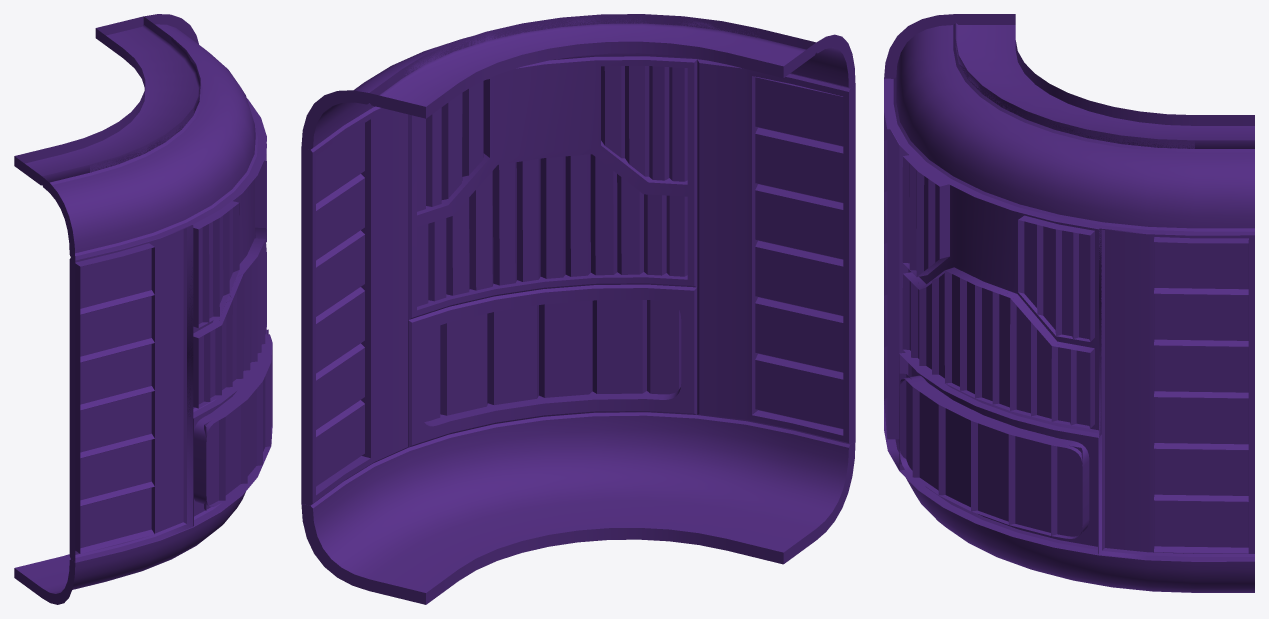
File: Wall_C_4x2m_TurnIn.FBX
3 views of the same model, side by side, from view 1: azimuth 30°, elevation 25°; view 2: azimuth 150°, elevation 25°; view 3: azimuth 270°, elevation 25° (orthographic). The views are drawn at different scales.
Parts seen in each view (by area): view 1: Wall_C_4x2m_TurnIn; view 2: Wall_C_4x2m_TurnIn; view 3: Wall_C_4x2m_TurnIn.
Boxes of the visible parts, x1,y1,x2,y2 form: Wall_C_4x2m_TurnIn: (14,14,272,604); Wall_C_4x2m_TurnIn: (301,14,855,604); Wall_C_4x2m_TurnIn: (884,14,1254,592).
Bounding box in the file's own units: 310 × 420 × 310.
